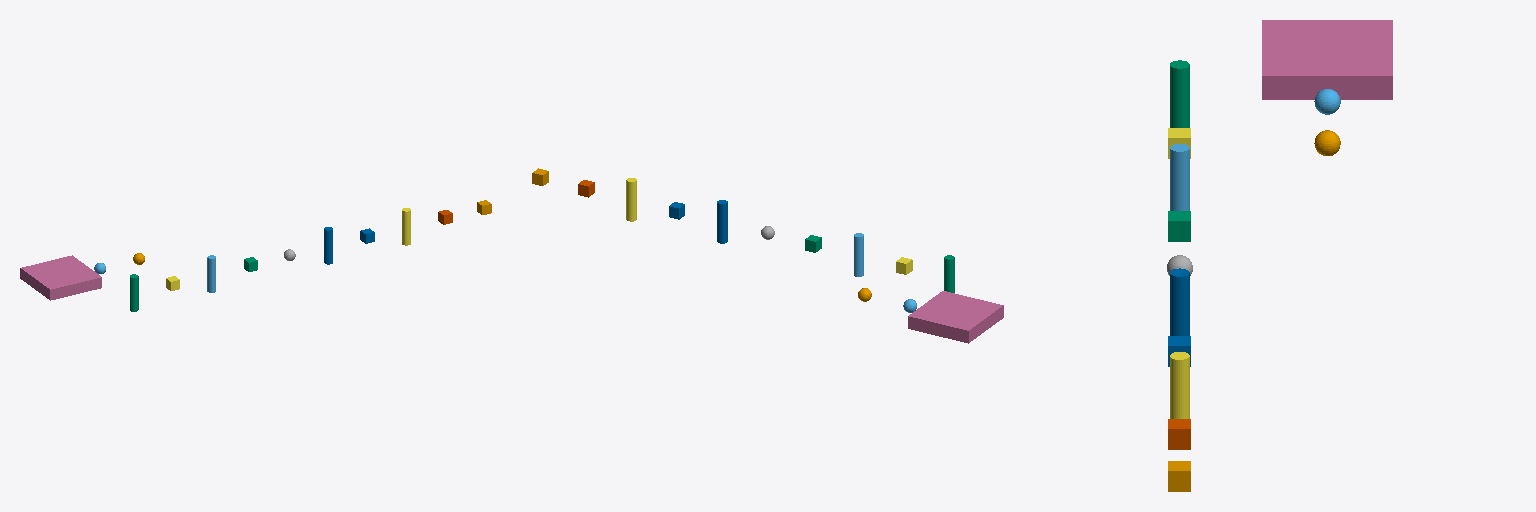
robot.urdf — robotic_manipulator:
<?xml version="1.0" ?>
<robot name="robotic_manipulator">
  <link name="fifth_joint">
    <visual>
      <geometry>
        <box size="0.014 0.014 0.014"/>
      </geometry>
    </visual>
  </link>
  <link name="first_actuator_assembly">
    <visual>
      <geometry>
        <sphere radius="0.008"/>
      </geometry>
    </visual>
  </link>
  <link name="first_input_link">
    <visual>
      <geometry>
        <cylinder radius="0.006" length="0.05"/>
      </geometry>
    </visual>
  </link>
  <link name="first_joint">
    <visual>
      <geometry>
        <box size="0.014 0.014 0.014"/>
      </geometry>
    </visual>
  </link>
  <link name="first_output_link">
    <visual>
      <geometry>
        <cylinder radius="0.006" length="0.05"/>
      </geometry>
    </visual>
  </link>
  <link name="fourth_joint">
    <visual>
      <geometry>
        <box size="0.014 0.014 0.014"/>
      </geometry>
    </visual>
  </link>
  <link name="frame">
    <visual>
      <geometry>
        <box size="0.08 0.08 0.016"/>
      </geometry>
    </visual>
  </link>
  <link name="mounting_means">
    <visual>
      <geometry>
        <sphere radius="0.008"/>
      </geometry>
    </visual>
  </link>
  <link name="second_actuator_assembly">
    <visual>
      <geometry>
        <sphere radius="0.008"/>
      </geometry>
    </visual>
  </link>
  <link name="second_input_link">
    <visual>
      <geometry>
        <cylinder radius="0.006" length="0.05"/>
      </geometry>
    </visual>
  </link>
  <link name="second_joint">
    <visual>
      <geometry>
        <box size="0.014 0.014 0.014"/>
      </geometry>
    </visual>
  </link>
  <link name="second_output_link">
    <visual>
      <geometry>
        <cylinder radius="0.006" length="0.05"/>
      </geometry>
    </visual>
  </link>
  <link name="third_joint">
    <visual>
      <geometry>
        <box size="0.014 0.014 0.014"/>
      </geometry>
    </visual>
  </link>
  <joint name="_attach_first_actuator_assembly_to_first_input_link" type="fixed">
    <parent link="first_actuator_assembly"/>
    <child link="first_input_link"/>
    <origin xyz="0.0000 -0.0900 0.0000" rpy="0 0 0"/>
  </joint>
  <joint name="_attach_first_input_link_to_first_output_link" type="fixed">
    <parent link="first_input_link"/>
    <child link="first_output_link"/>
    <origin xyz="0.3000 0.0000 0.0000" rpy="0 0 0"/>
  </joint>
  <joint name="_attach_frame_to_fifth_joint" type="fixed">
    <parent link="frame"/>
    <child link="fifth_joint"/>
    <origin xyz="0.6000 -0.0900 0.0000" rpy="0 0 0"/>
  </joint>
  <joint name="_attach_frame_to_first_actuator_assembly" type="fixed">
    <parent link="frame"/>
    <child link="first_actuator_assembly"/>
    <origin xyz="0.0600 0.0000 0.0000" rpy="0 0 0"/>
  </joint>
  <joint name="_attach_frame_to_first_joint" type="fixed">
    <parent link="frame"/>
    <child link="first_joint"/>
    <origin xyz="0.1200 -0.0900 0.0000" rpy="0 0 0"/>
  </joint>
  <joint name="_attach_frame_to_fourth_joint" type="fixed">
    <parent link="frame"/>
    <child link="fourth_joint"/>
    <origin xyz="0.5400 -0.0900 0.0000" rpy="0 0 0"/>
  </joint>
  <joint name="_attach_frame_to_mounting_means" type="fixed">
    <parent link="frame"/>
    <child link="mounting_means"/>
    <origin xyz="0.3000 -0.0900 0.0000" rpy="0 0 0"/>
  </joint>
  <joint name="_attach_frame_to_second_actuator_assembly" type="fixed">
    <parent link="frame"/>
    <child link="second_actuator_assembly"/>
    <origin xyz="0.1200 0.0000 0.0000" rpy="0 0 0"/>
  </joint>
  <joint name="_attach_frame_to_second_joint" type="fixed">
    <parent link="frame"/>
    <child link="second_joint"/>
    <origin xyz="0.2400 -0.0900 0.0000" rpy="0 0 0"/>
  </joint>
  <joint name="_attach_frame_to_third_joint" type="fixed">
    <parent link="frame"/>
    <child link="third_joint"/>
    <origin xyz="0.4200 -0.0900 0.0000" rpy="0 0 0"/>
  </joint>
  <joint name="_attach_second_actuator_assembly_to_second_input_link" type="fixed">
    <parent link="second_actuator_assembly"/>
    <child link="second_input_link"/>
    <origin xyz="0.0600 -0.0900 0.0000" rpy="0 0 0"/>
  </joint>
  <joint name="_attach_second_input_link_to_second_output_link" type="fixed">
    <parent link="second_input_link"/>
    <child link="second_output_link"/>
    <origin xyz="0.3000 0.0000 0.0000" rpy="0 0 0"/>
  </joint>
</robot>

--- Render facts (derived) ---
The picture shows the robot from 3 angles, left to right: view 1: azimuth 30°, elevation 25°; view 2: azimuth 150°, elevation 25°; view 3: azimuth 270°, elevation 25°; orthographic projection.
Model robotic_manipulator with 13 links and 12 joints (12 fixed), rooted at frame, posed every joint at zero.
Visible links, largest first — view 1: frame; view 2: frame; view 3: frame, first_input_link, first_output_link, second_input_link, second_output_link, fifth_joint, fourth_joint, second_joint, second_actuator_assembly, first_actuator_assembly.
Boxes of the visible links, <box> form: frame: <box>20,255,101,300</box>; frame: <box>908,291,1003,343</box>; frame: <box>1262,20,1392,99</box>; first_input_link: <box>1170,60,1189,127</box>; first_output_link: <box>1170,268,1189,335</box>; second_input_link: <box>1170,144,1189,210</box>; second_output_link: <box>1170,352,1189,418</box>; fifth_joint: <box>1168,461,1190,491</box>; fourth_joint: <box>1168,419,1190,449</box>; second_joint: <box>1168,211,1190,241</box>; second_actuator_assembly: <box>1314,130,1340,155</box>; first_actuator_assembly: <box>1314,89,1340,114</box>.
Size in the robot's own frame: 0.647 by 0.138 by 0.05 metres.
Geometry: primitives only (box / cylinder / sphere), no mesh files.
